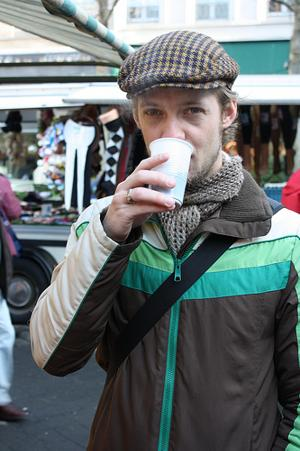person: (29, 27, 300, 451)
